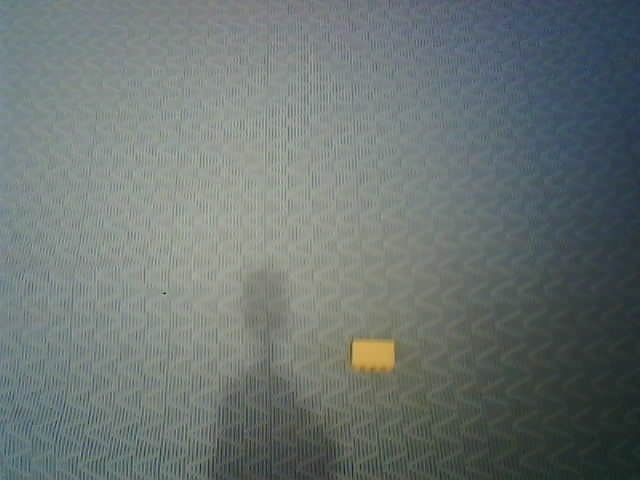lego: (350, 338, 397, 373)
